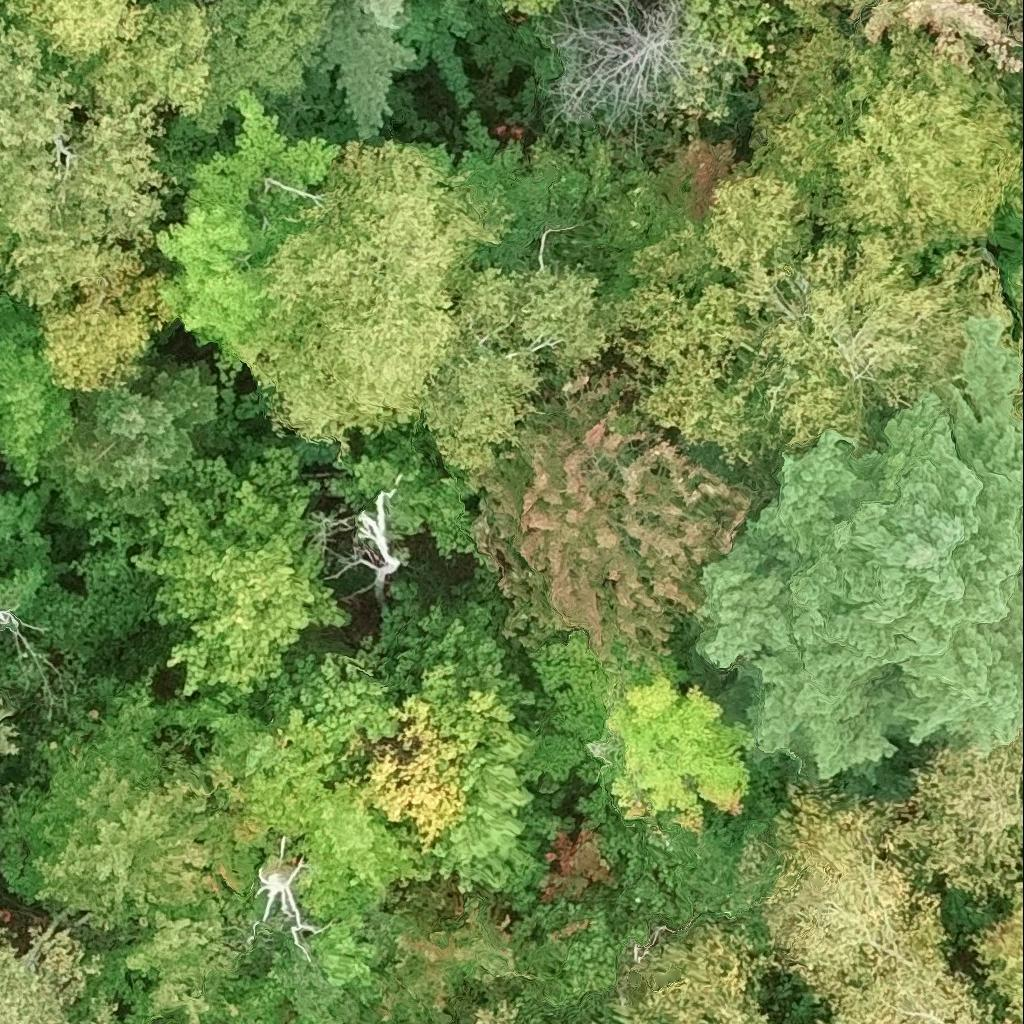crown: (700, 326, 1023, 775), (625, 177, 1005, 468), (475, 360, 768, 659), (0, 674, 275, 934), (260, 142, 497, 437), (745, 30, 1023, 269), (358, 577, 554, 890), (134, 446, 349, 698), (62, 875, 399, 1023), (423, 266, 638, 494), (532, 626, 758, 837), (237, 685, 435, 917), (474, 832, 698, 1023), (766, 787, 948, 1009), (561, 779, 791, 946), (11, 97, 172, 310), (164, 655, 390, 777), (7, 0, 212, 129), (885, 717, 1023, 893), (362, 869, 515, 1023), (62, 365, 219, 505), (0, 18, 74, 308), (199, 0, 338, 132), (659, 0, 800, 126), (789, 0, 1023, 74), (552, 0, 688, 125), (610, 921, 768, 1023), (365, 695, 467, 852), (38, 273, 172, 391), (302, 0, 413, 136), (0, 295, 77, 478), (812, 961, 1023, 1023), (0, 927, 101, 1023), (969, 884, 1023, 1008), (253, 859, 318, 945), (356, 489, 401, 600), (0, 700, 21, 763), (514, 0, 542, 21), (0, 608, 20, 635), (87, 1002, 112, 1023), (485, 1006, 515, 1023)
